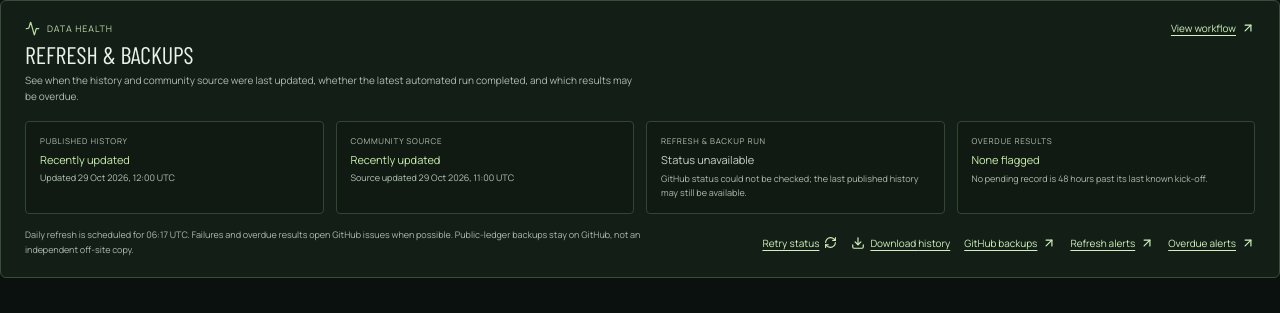
Scenario: website health panel › shows a failed run and recovers from rate-limited status checks on retry
Expected: the text "Status unavailable" is shown, 661,152 -> 754,167
What coordinates should you click on to do the following:
click the button "Retry status"
I would click on:
 (800, 243)
Its box is 762,236 -> 837,250.
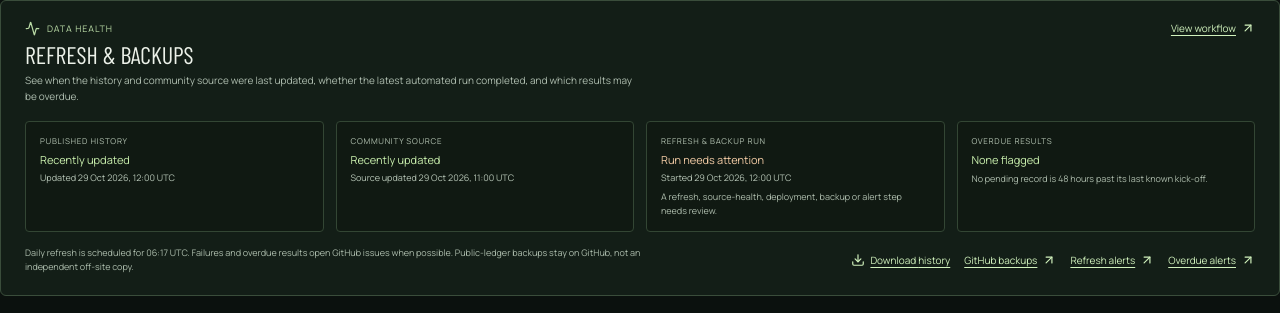
Expected: the text "Run needs attention" is shown, 661,152 -> 764,167
